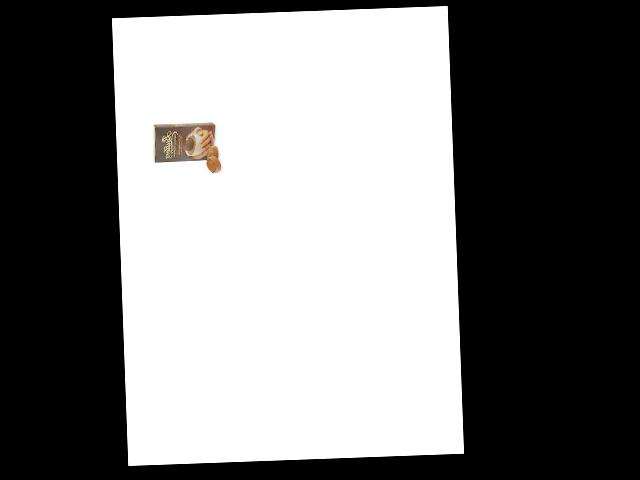chocolate: (150, 119, 218, 168)
